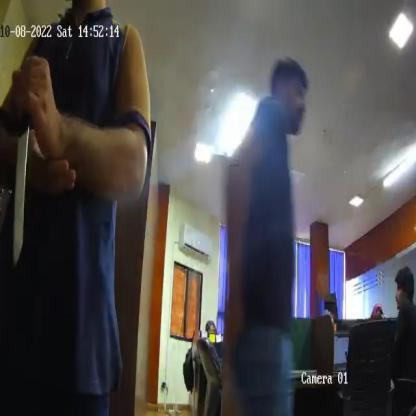Knife: (9, 92, 35, 263)
